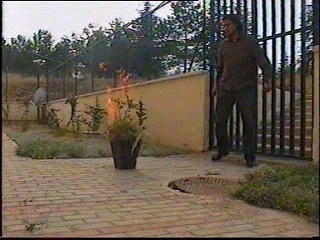fire: (100, 63, 132, 119)
